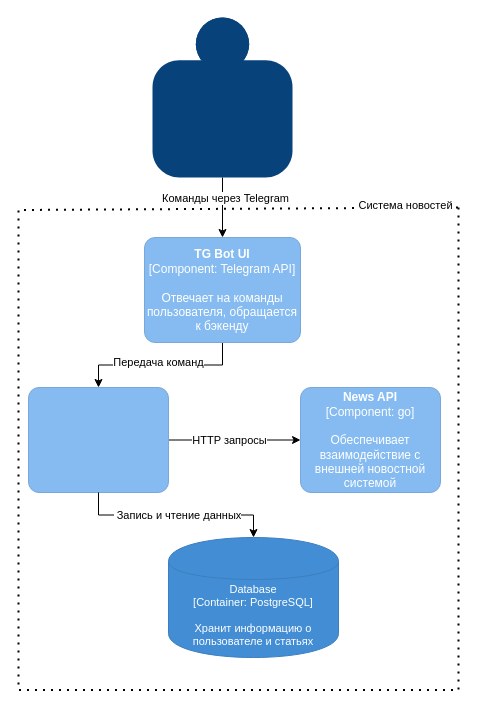
Image size: 477x709. Some labels were removed from this diagram. The centre of each missing label's shape, as x and y in pixels:
"Backend [Component: go] Обрабатывает полученные команды от пользователя" belongs at (98,439).
"Пользователь [Person] Использует систему для получения новостей" belongs at (222,97).
